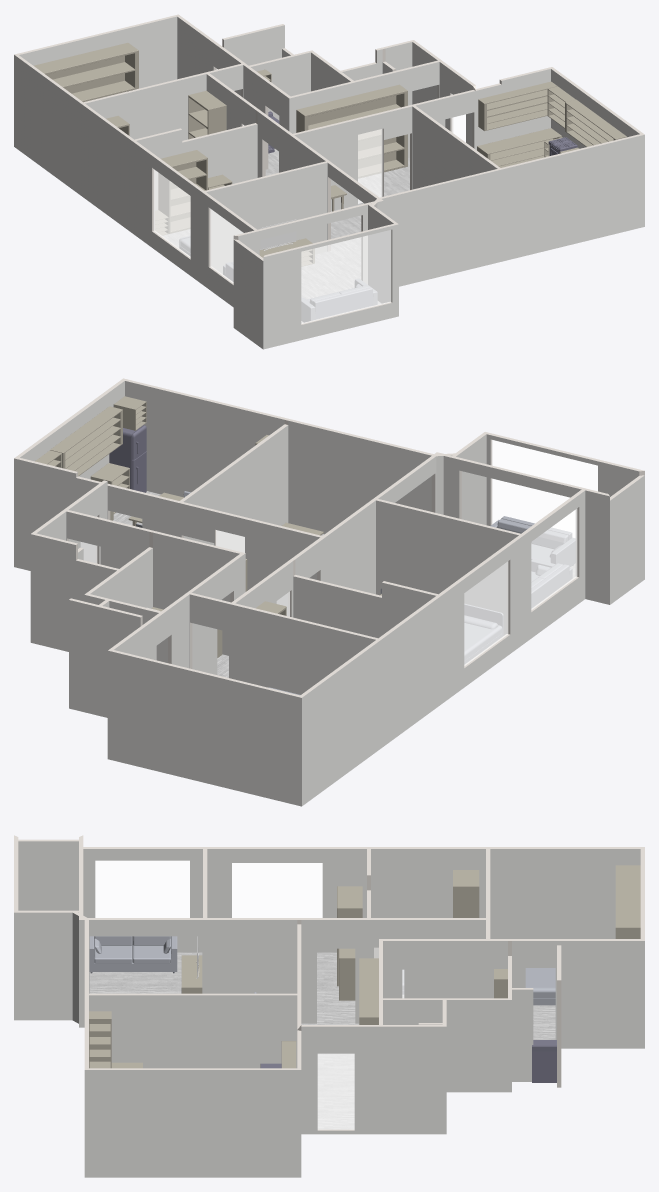
The model's file is f6672623-5d64-4d7a-8245-ee58aad3aefa.glb.
3 renders of one model, top to bottom at view 1: azimuth 30°, elevation 25°; view 2: azimuth 150°, elevation 25°; view 3: azimuth 270°, elevation 25°, orthographic. The views are drawn at different scales.
Parts seen in each view (by area): view 1: wall_7, wall_21, wall_133, window_2, window_5, wall_32, wall_16, wall_28, storage_shelf8, wall_139, wall_18, wall_115 (+50 smaller); view 2: wall_46, wall_89, wall_61, wall_43, wall_32, wall_34, wall_28, wall_13, wall_18, wall_44, wall_12, window_2 (+40 smaller); view 3: wall_3, wall_73, wall_111, wall_113, wall_6, wall_123, wall_103, wall_24, wall_8, wall_20, wall_83, window_1 (+32 smaller).
Part boxes in pixels (x1,y1,x2,y2): wall_7: (504, 134, 644, 260); wall_21: (382, 169, 504, 286); wall_133: (206, 162, 327, 273); window_2: (301, 230, 390, 323); window_5: (301, 230, 390, 323); wall_32: (14, 55, 80, 195); wall_16: (263, 224, 398, 349); wall_28: (81, 104, 131, 232); storage_shelf8: (296, 84, 407, 178); wall_139: (19, 16, 177, 88); wall_18: (132, 141, 202, 283); wall_115: (85, 74, 206, 140); wall_46: (107, 650, 301, 806); wall_89: (288, 421, 431, 534); wall_61: (125, 381, 284, 497); wall_43: (376, 500, 518, 635); wall_32: (302, 640, 380, 805); wall_34: (231, 604, 375, 694); wall_28: (381, 596, 440, 748); wall_13: (183, 425, 288, 552); wall_18: (441, 536, 523, 704); wall_44: (293, 576, 435, 638); wall_12: (69, 600, 140, 717); window_2: (492, 440, 597, 524); wall_3: (84, 1070, 301, 1177); wall_73: (89, 995, 297, 1068); wall_111: (490, 849, 640, 938); wall_113: (512, 941, 644, 1048); wall_6: (381, 1026, 446, 1134); wall_123: (205, 920, 297, 993); wall_103: (371, 849, 485, 917); wall_24: (14, 912, 72, 1020); wall_8: (446, 1000, 511, 1092); wall_20: (301, 1026, 380, 1134); wall_83: (207, 849, 366, 952); window_1: (95, 861, 189, 917).
Bounding box in the file's own units: 13.3 × 2.85 × 15.09.
167 materials, 13 textured.
